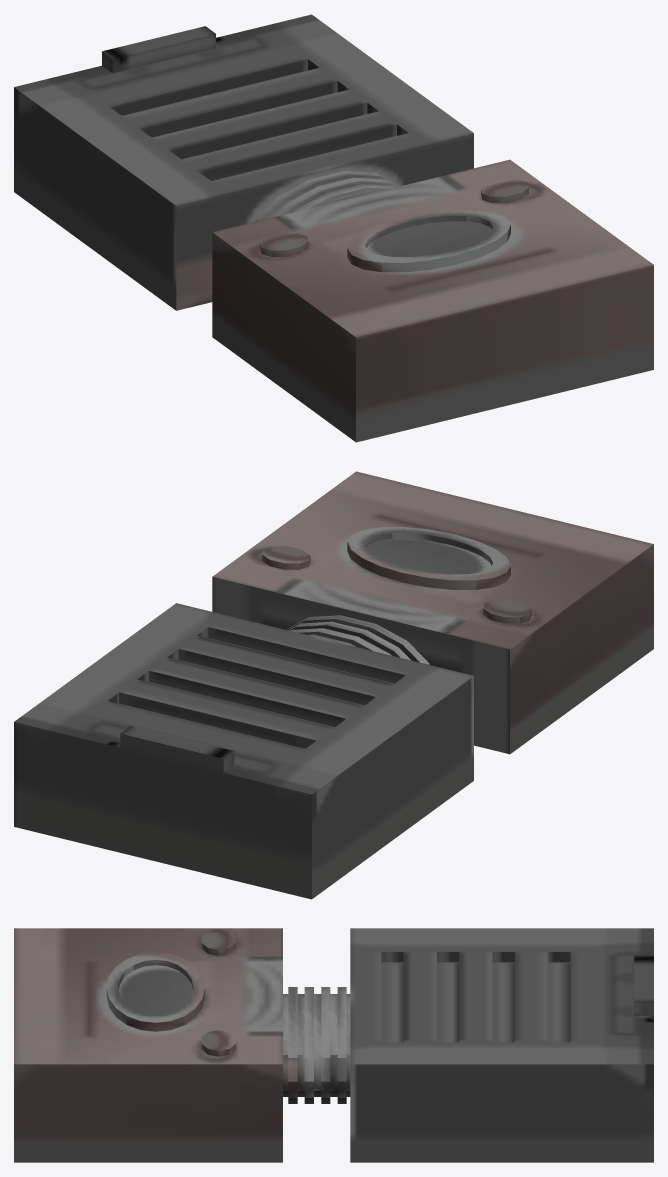
The model's file is Building_BioferriteHarvester.obj.
The picture shows the model from 3 angles, top to bottom: view 1: azimuth 30°, elevation 25°; view 2: azimuth 150°, elevation 25°; view 3: azimuth 270°, elevation 25°; orthographic projection. The views are drawn at different scales.
Visible parts, largest first — view 1: Body; view 2: Body; view 3: Body.
Boxes of the visible parts, x1=… form: Body: x1=14, y1=14, x2=653, y2=442; Body: x1=14, y1=471, x2=653, y2=899; Body: x1=14, y1=928, x2=653, y2=1162.
Bounding box in the file's own units: 0.98 × 0.375 × 1.95.
Materials: 1 (1 with a texture image).
